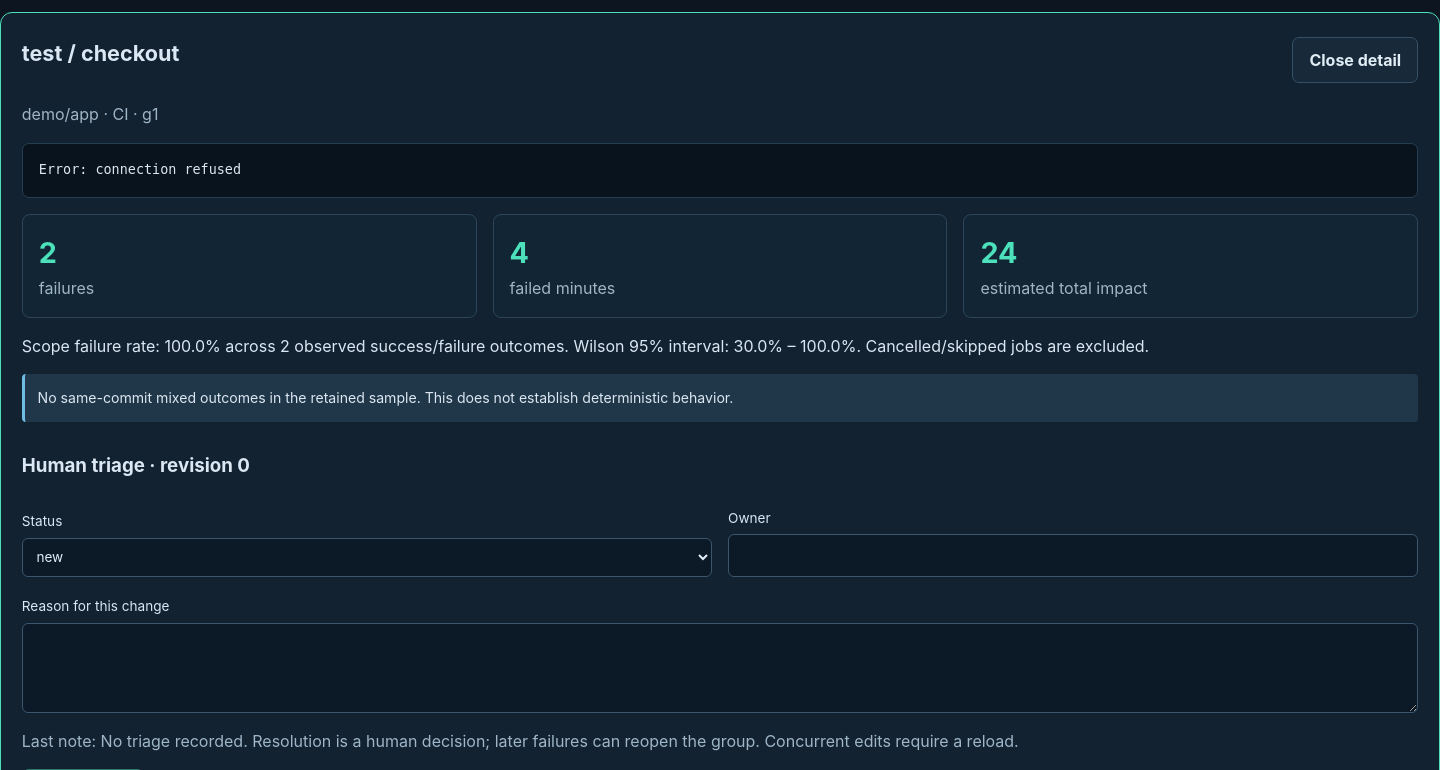
CI workflows › preserves revision conflict feedback without reporting success
The image size is (1440, 770).
Type "Investigating network failures" into the text box labelled "Reason for this change" at (720, 668), box [22,623,1418,713]
(page scrolled)
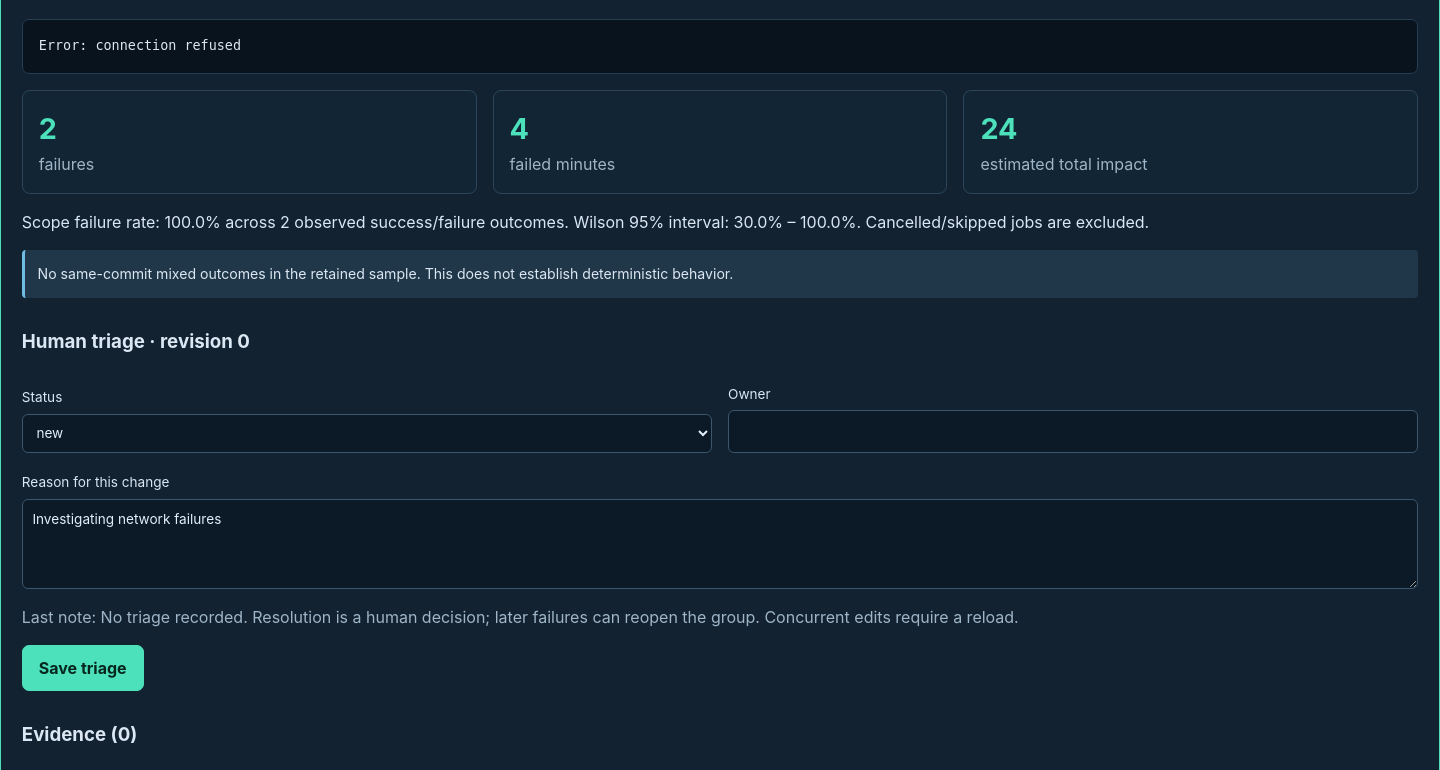
Click the button "Save triage" at (83, 668), box [22,645,144,691]
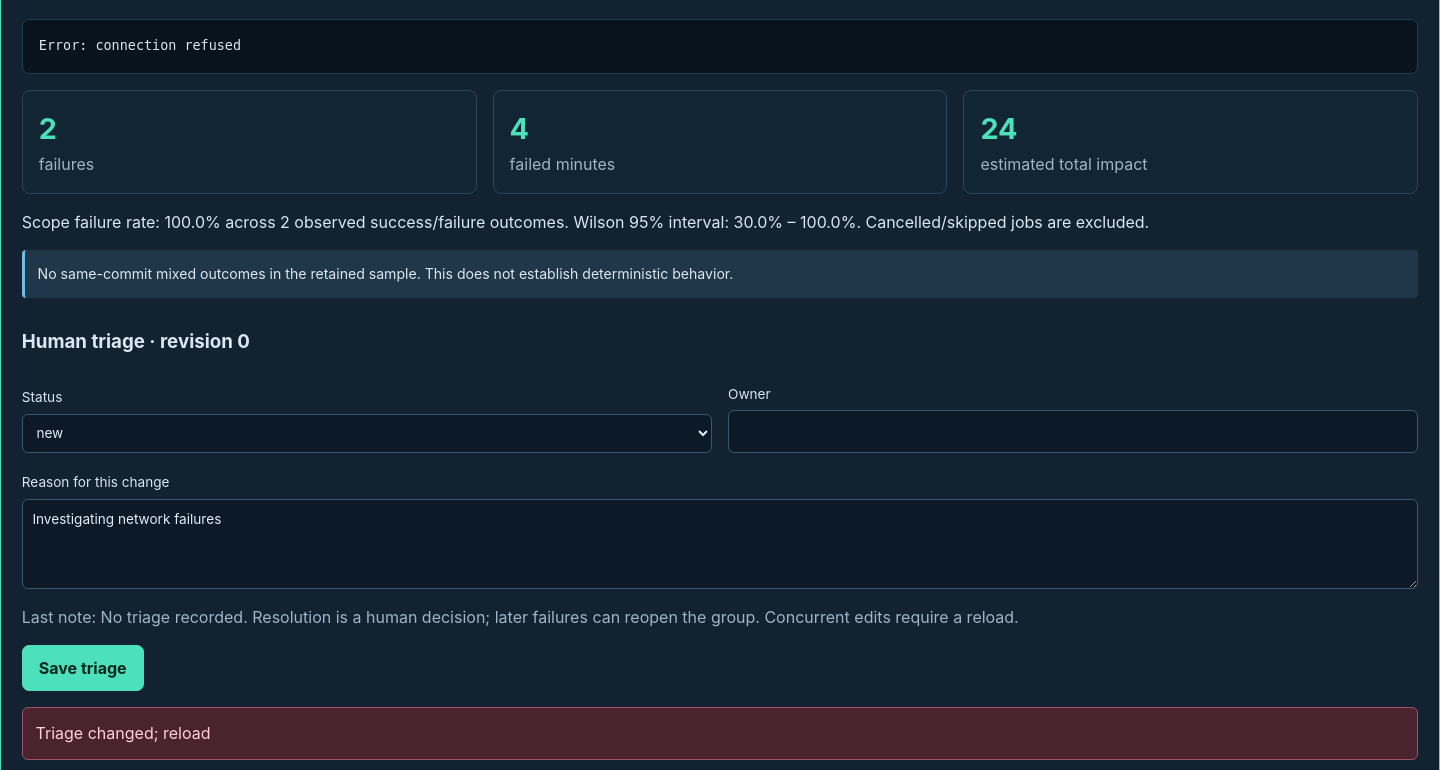
Expected: the message reads "Triage changed; reload", [36,723,210,743]
